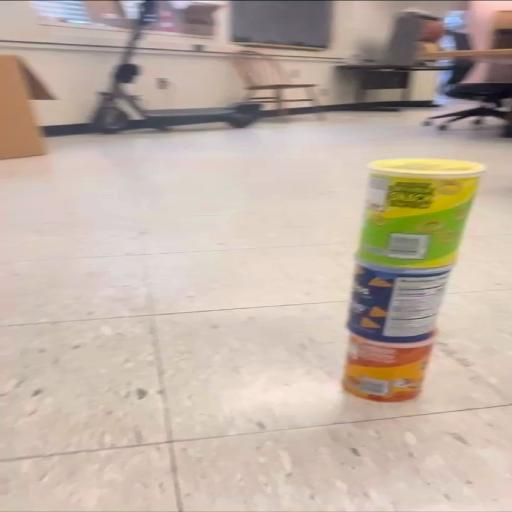pringle can: (367, 158, 480, 264), (348, 262, 451, 343), (343, 334, 434, 401)
